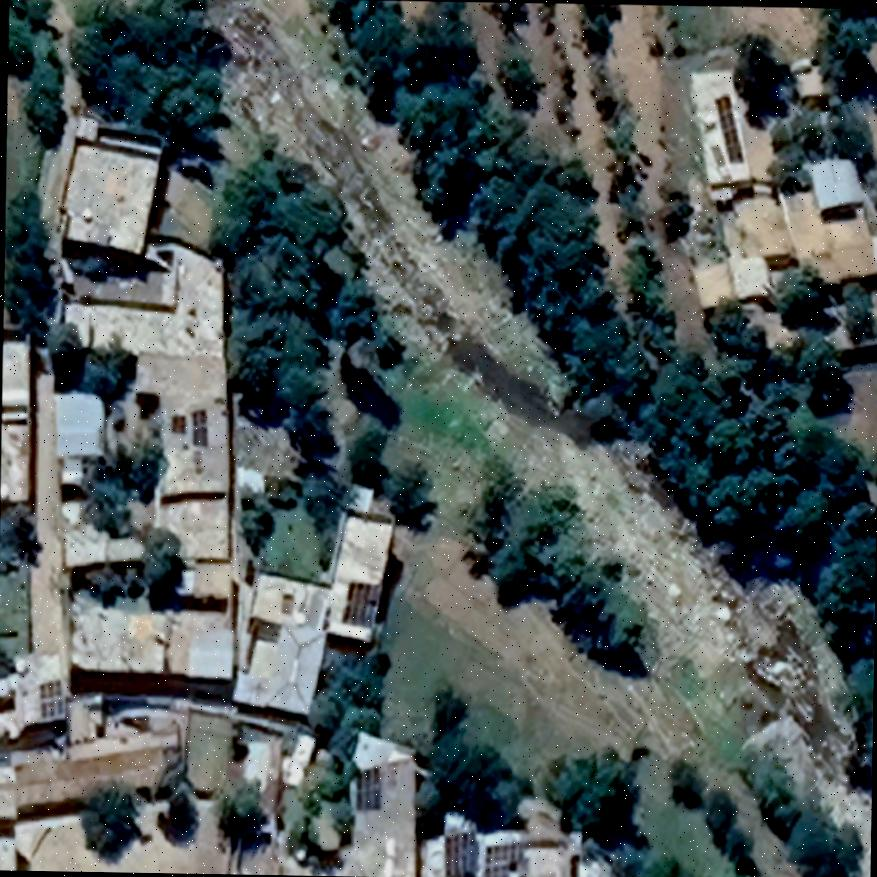Solarpanel: (712, 92, 746, 164), (340, 577, 380, 628), (441, 827, 480, 877), (482, 839, 520, 877), (354, 764, 384, 812)
